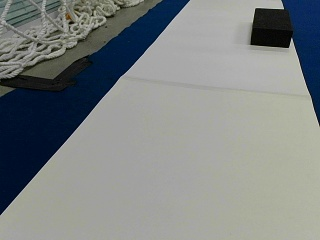block: (250, 8, 291, 48)
